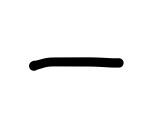minus: (27, 55, 120, 72)
